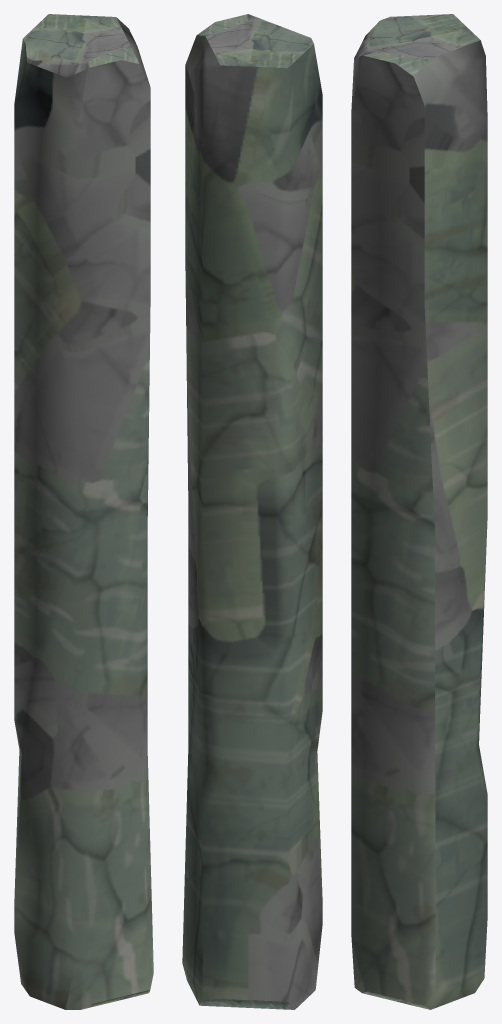
Rendered from obj_harvest_resource_stone.fbx.
3 views of the same model, side by side, from view 1: azimuth 30°, elevation 25°; view 2: azimuth 210°, elevation 25°; view 3: azimuth 330°, elevation 25° (orthographic).
Parts seen in each view (by area): view 1: resource_stone_low; view 2: resource_stone_low; view 3: resource_stone_low.
Boxes of the visible parts, box(x1,y1,x2,y2) form: resource_stone_low: box(14, 14, 153, 1009); resource_stone_low: box(182, 14, 322, 1009); resource_stone_low: box(351, 14, 487, 1009).
Size of the model in its own units: 1.05 by 8 by 1.
